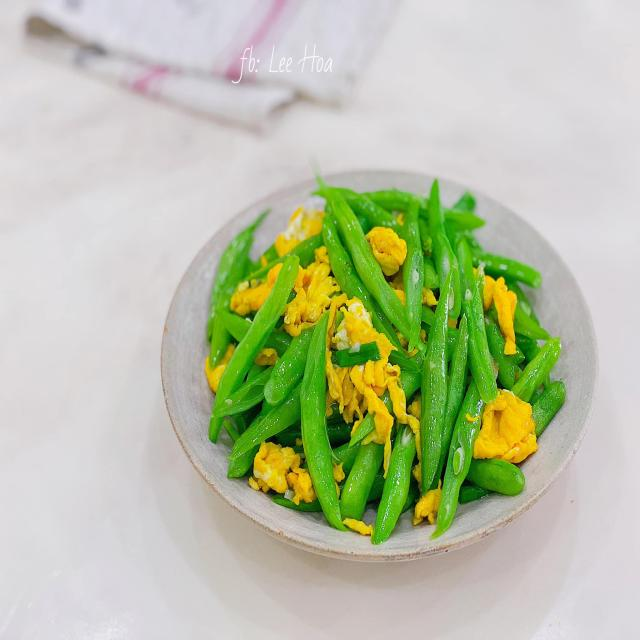dau que: (205, 181, 565, 544)
